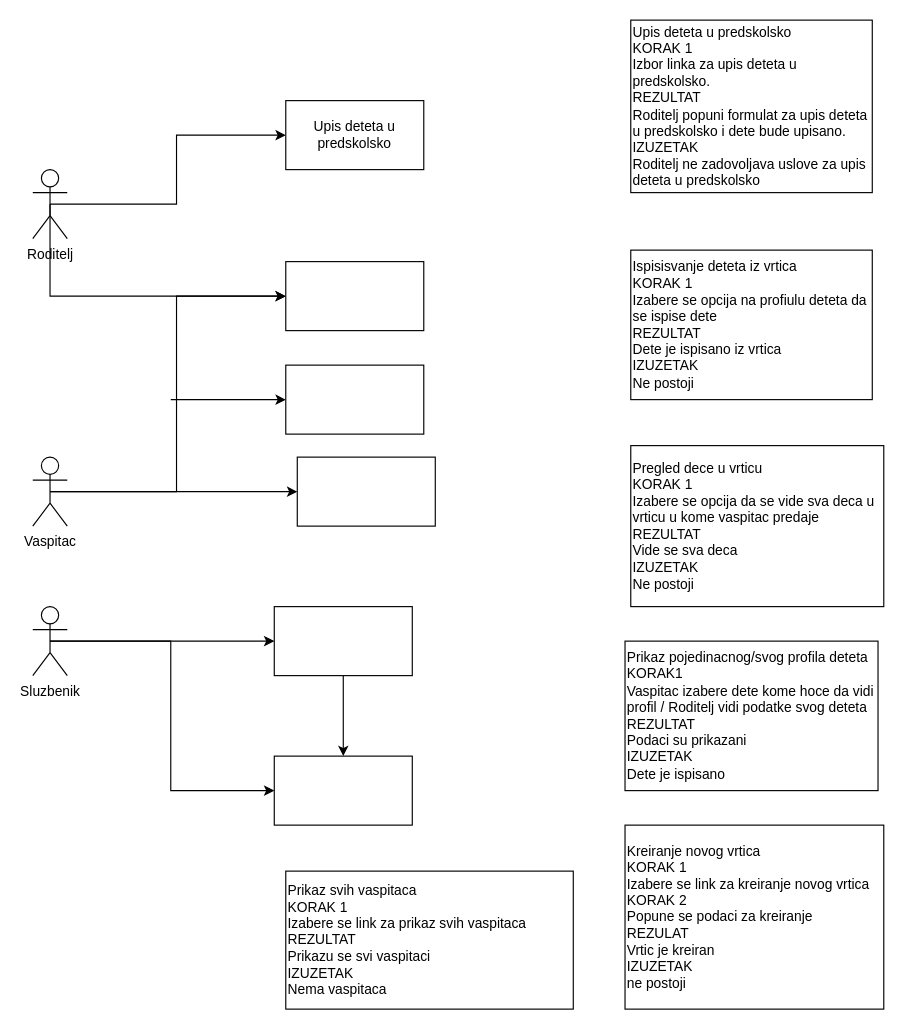
Some shapes in this 904 by 1029 pixel diagram are drawn without their labels. The shapes that lost their labels are listed below. From the top down, each one's centre as x and y in pixels, then its label:
[354,295]: Ispisivanje deteta iz vrtica
[354,399]: Pregled profila svog/pojedinacnog deteta
[365,491]: Pregled dece u vrticu
[342,640]: Kreiranje novog vrtica
[342,790]: Prikaz svih vaspitaca
